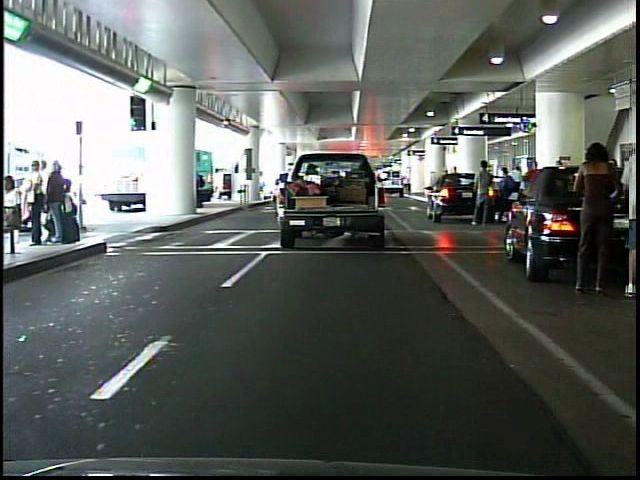person: (568, 134, 620, 299), (467, 154, 498, 232), (492, 162, 517, 230), (630, 125, 631, 291)
